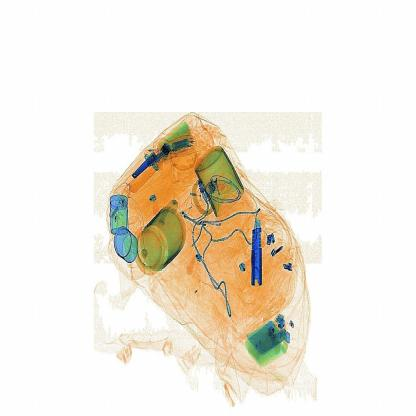pliers: (248, 210, 267, 291)
